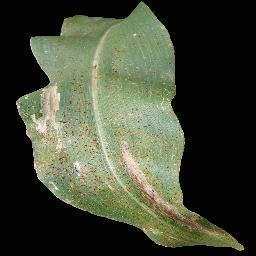Corn_Common_Rust: (11, 10, 249, 255)
